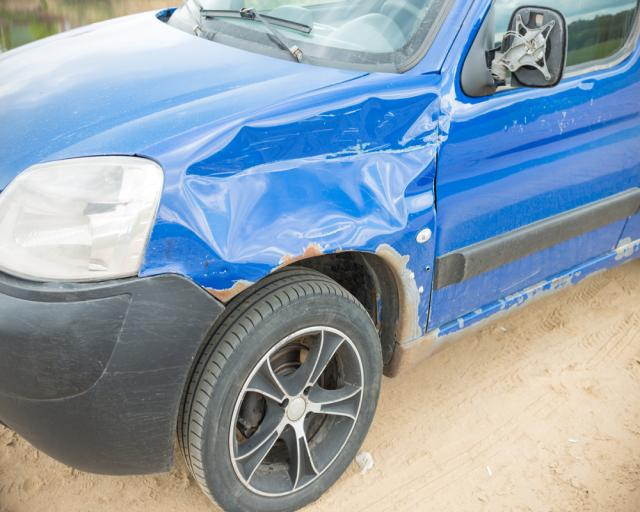dent: (182, 90, 450, 267)
